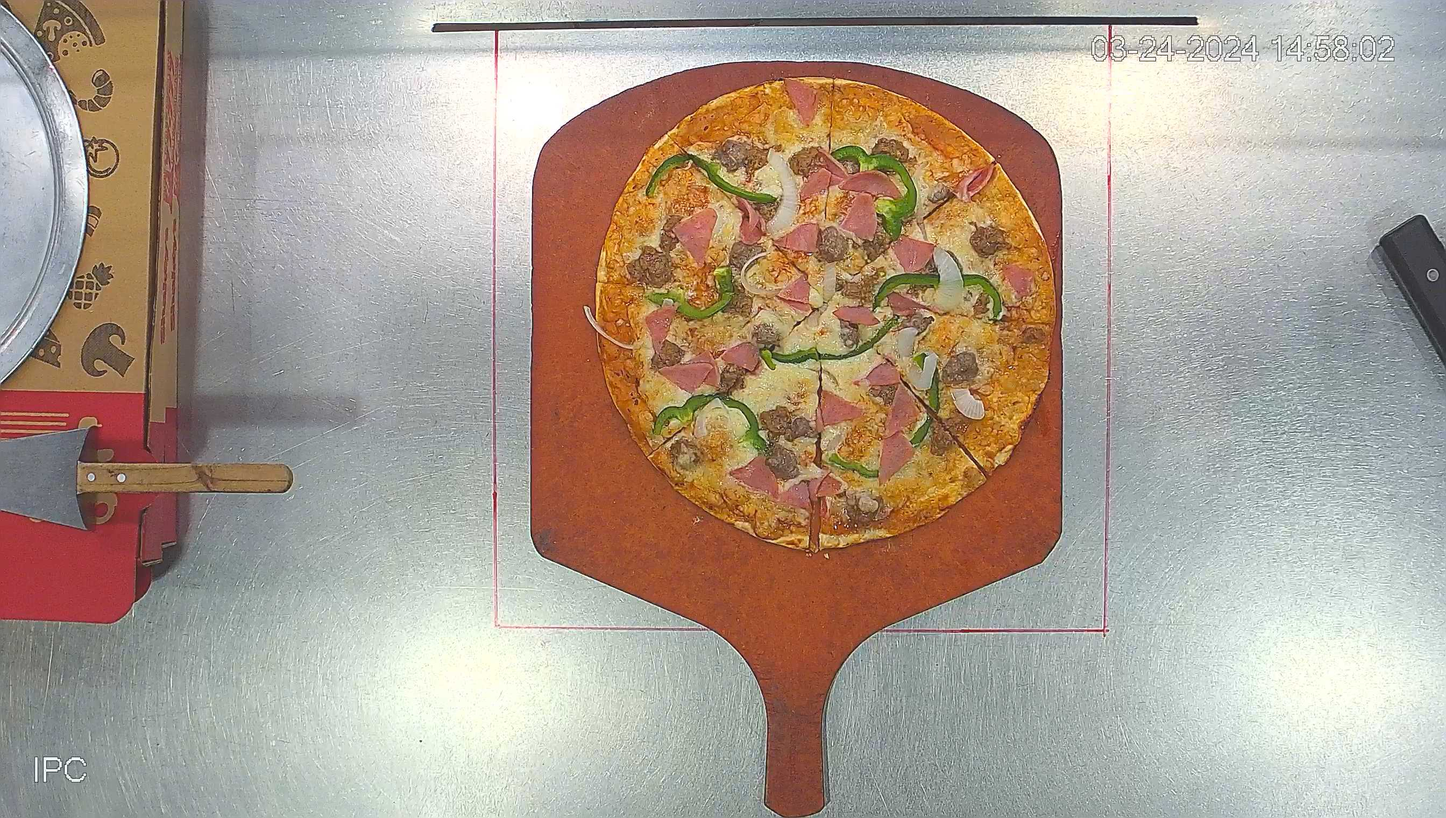hawaiian: (581, 74, 1058, 549)
